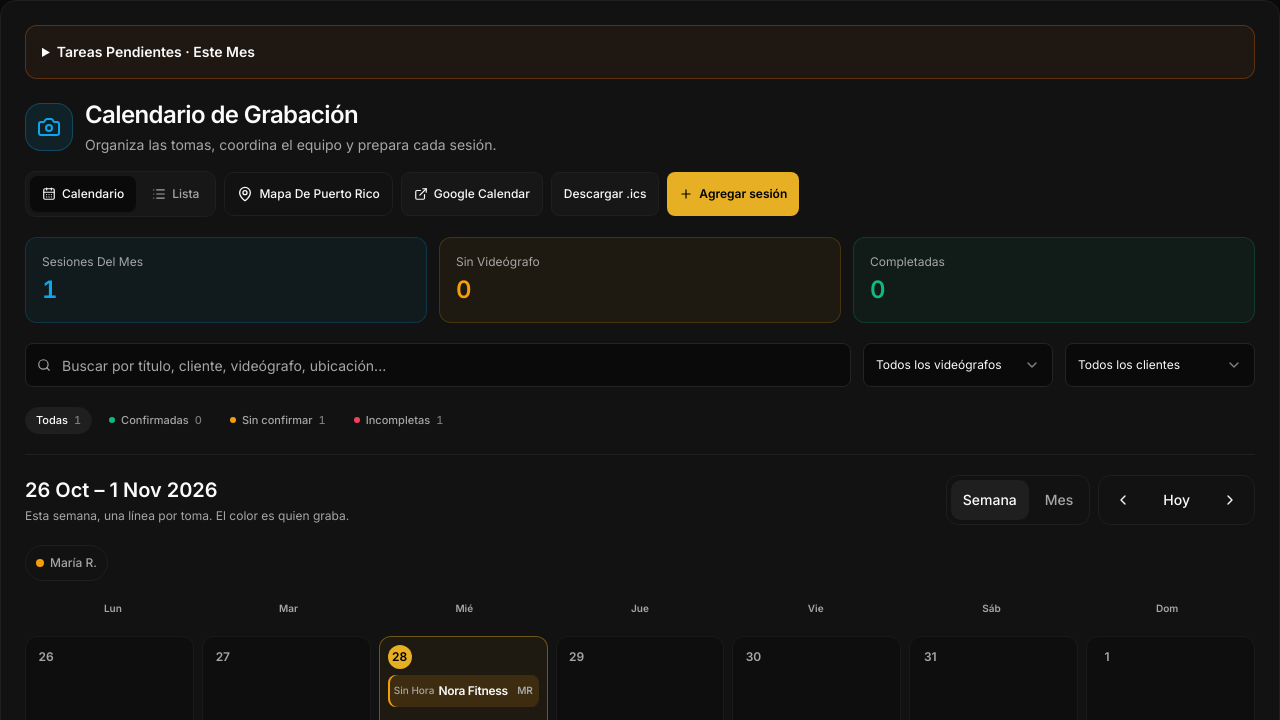
it: lista — click para editar (SessionCard) › al pulsar la tarjeta de lista abre SessionIdeasPanel
Step 1. Click the button "Lista" → coordinates (176, 194), box [140,176,211,212]
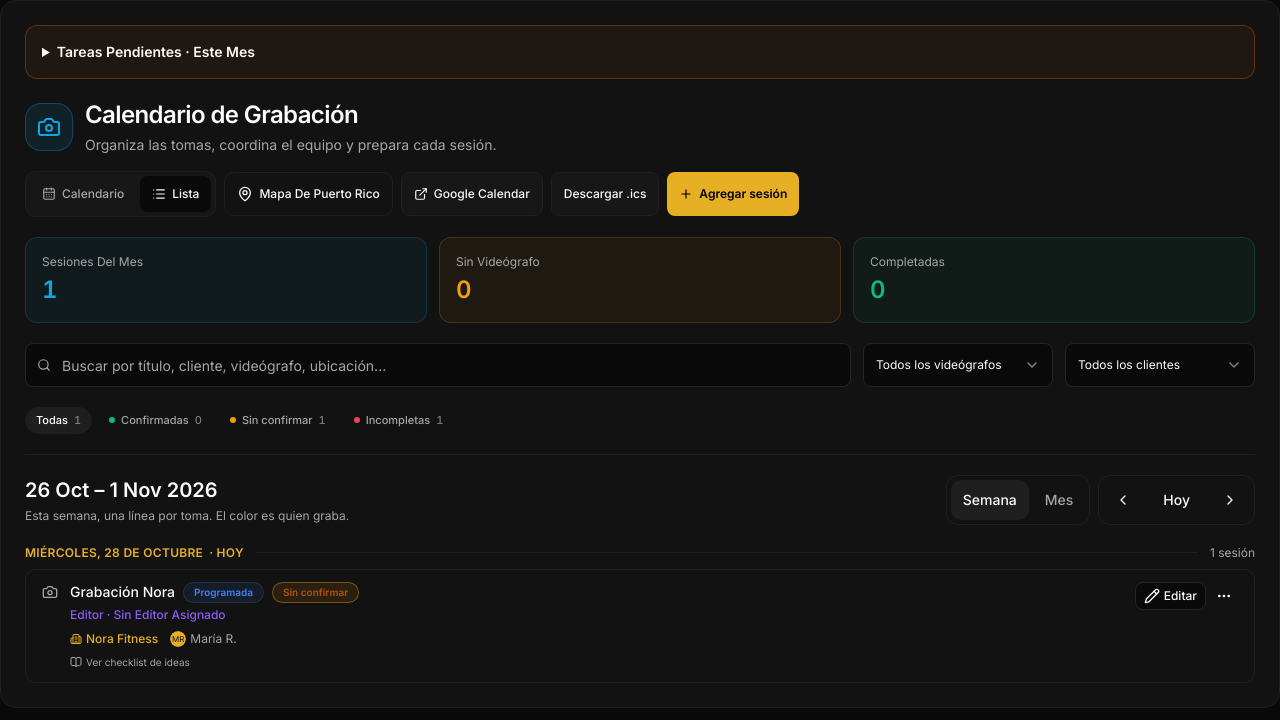
Step 2. Click the text "Grabación Nora" → coordinates (123, 592), box [70,582,175,602]
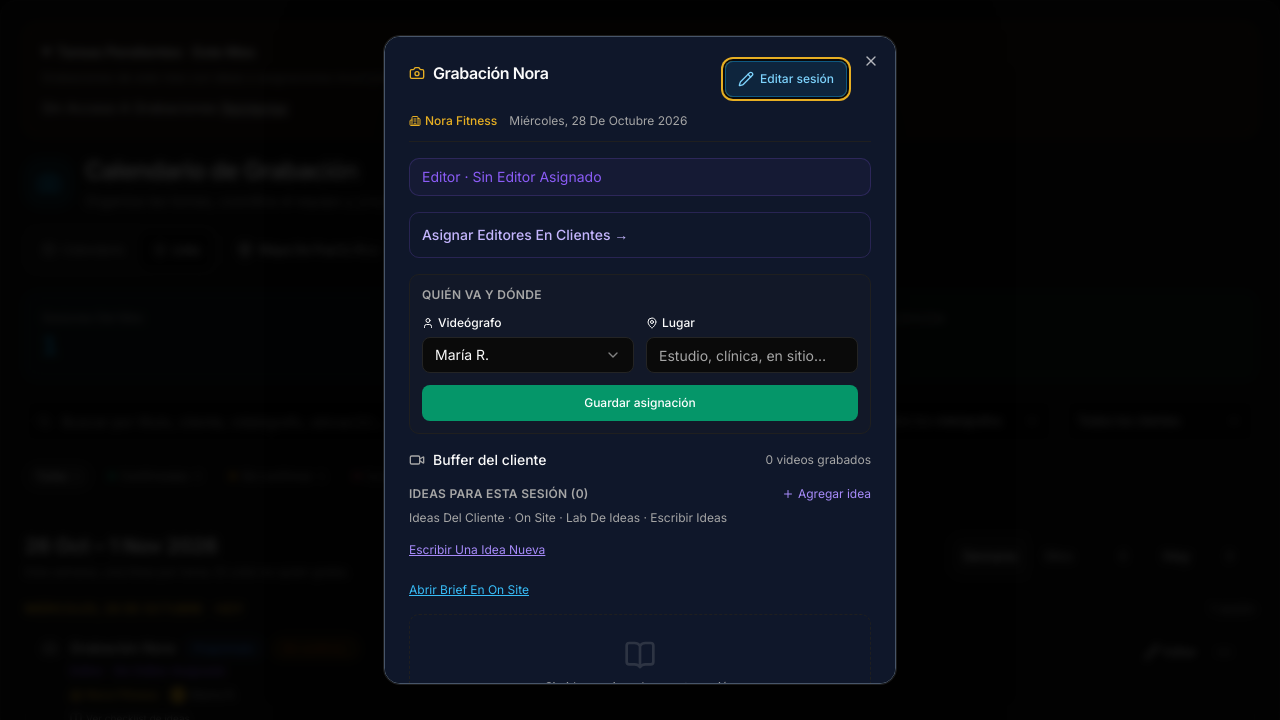
Check: the button "Editar sesión" is shown, box [725,61,847,97]
